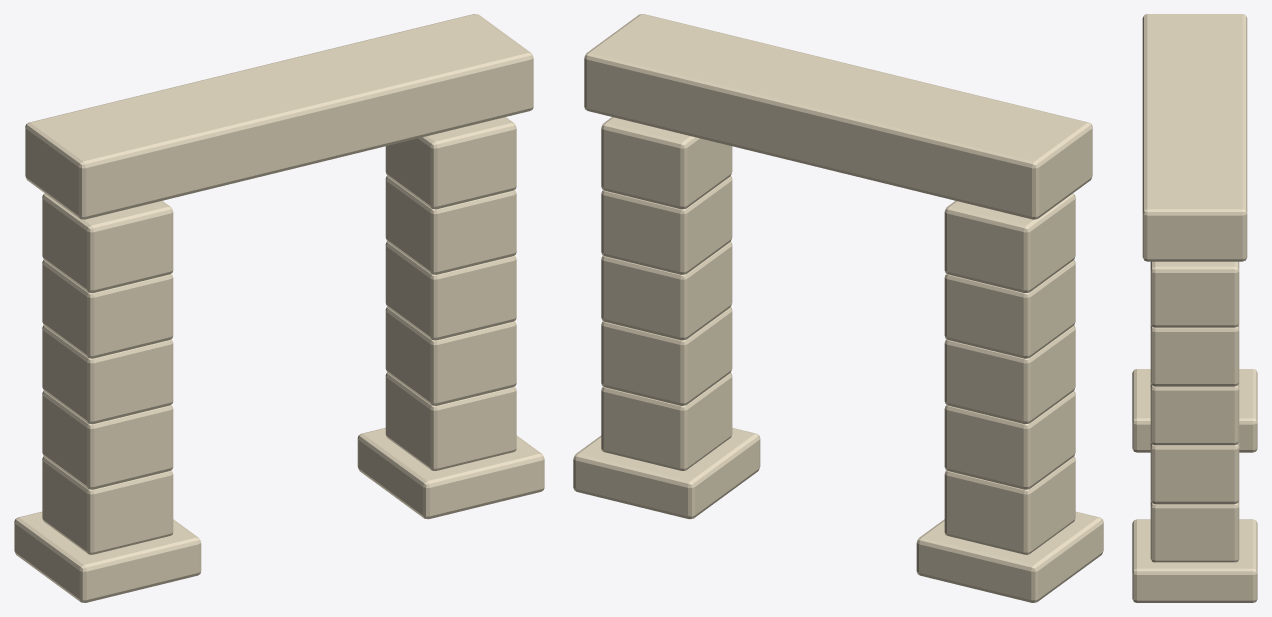
Rendered from CoastalRuinArch.fbx.
3 renders of one model, left to right at view 1: azimuth 30°, elevation 25°; view 2: azimuth 150°, elevation 25°; view 3: azimuth 270°, elevation 25°, orthographic. The views are drawn at different scales.
Visible parts, largest first — view 1: Ruin_Lintel, Ruin_Block.004, Ruin_Foot.001, Ruin_Foot, Ruin_Block.009, Ruin_Block.002, Ruin_Block.007, Ruin_Block.001, Ruin_Block.003, Ruin_Block.006, Ruin_Block.008, Ruin_Block (+1 smaller); view 2: Ruin_Lintel, Ruin_Block.004, Ruin_Foot.001, Ruin_Foot, Ruin_Block.009, Ruin_Block.002, Ruin_Block.007, Ruin_Block.001, Ruin_Block.003, Ruin_Block.006, Ruin_Block.008, Ruin_Block (+1 smaller); view 3: Ruin_Lintel, Ruin_Foot.001, Ruin_Block.009, Ruin_Block.006, Ruin_Block.007, Ruin_Block.008, Ruin_Block.005, Ruin_Foot.
Part boxes in pixels (x1,y1,x2,y2): Ruin_Lintel: (25, 14, 533, 219); Ruin_Block.004: (42, 193, 173, 292); Ruin_Foot.001: (357, 428, 544, 519); Ruin_Foot: (14, 511, 201, 602); Ruin_Block.009: (385, 117, 516, 209); Ruin_Block.002: (42, 325, 173, 424); Ruin_Block.007: (385, 241, 516, 340); Ruin_Block.001: (42, 391, 173, 489); Ruin_Block.003: (42, 260, 173, 358); Ruin_Block.006: (385, 307, 516, 405); Ruin_Block.008: (385, 176, 516, 274); Ruin_Block: (42, 456, 173, 554); Ruin_Lintel: (584, 14, 1092, 219); Ruin_Block.004: (944, 193, 1075, 292); Ruin_Foot.001: (573, 428, 760, 519); Ruin_Foot: (916, 511, 1103, 602); Ruin_Block.009: (601, 117, 732, 209); Ruin_Block.002: (944, 325, 1075, 424); Ruin_Block.007: (601, 241, 732, 340); Ruin_Block.001: (944, 391, 1075, 489); Ruin_Block.003: (944, 260, 1075, 358); Ruin_Block.006: (601, 307, 732, 405); Ruin_Block.008: (601, 176, 732, 274); Ruin_Block: (944, 456, 1075, 554); Ruin_Lintel: (1142, 14, 1247, 261); Ruin_Foot.001: (1132, 519, 1257, 602); Ruin_Block.009: (1150, 261, 1239, 327); Ruin_Block.006: (1150, 442, 1239, 504); Ruin_Block.007: (1150, 383, 1239, 445); Ruin_Block.008: (1150, 324, 1239, 386); Ruin_Block.005: (1150, 500, 1239, 562); Ruin_Foot: (1132, 369, 1257, 452).
Bounding box in the file's own units: 460 × 413 × 120.
